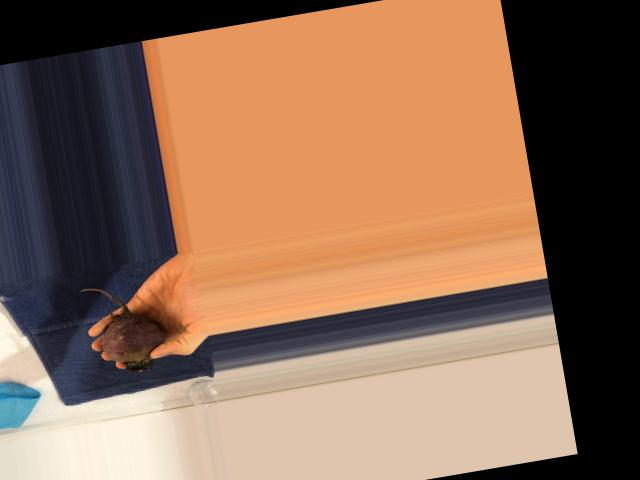beet: (77, 276, 170, 379)
